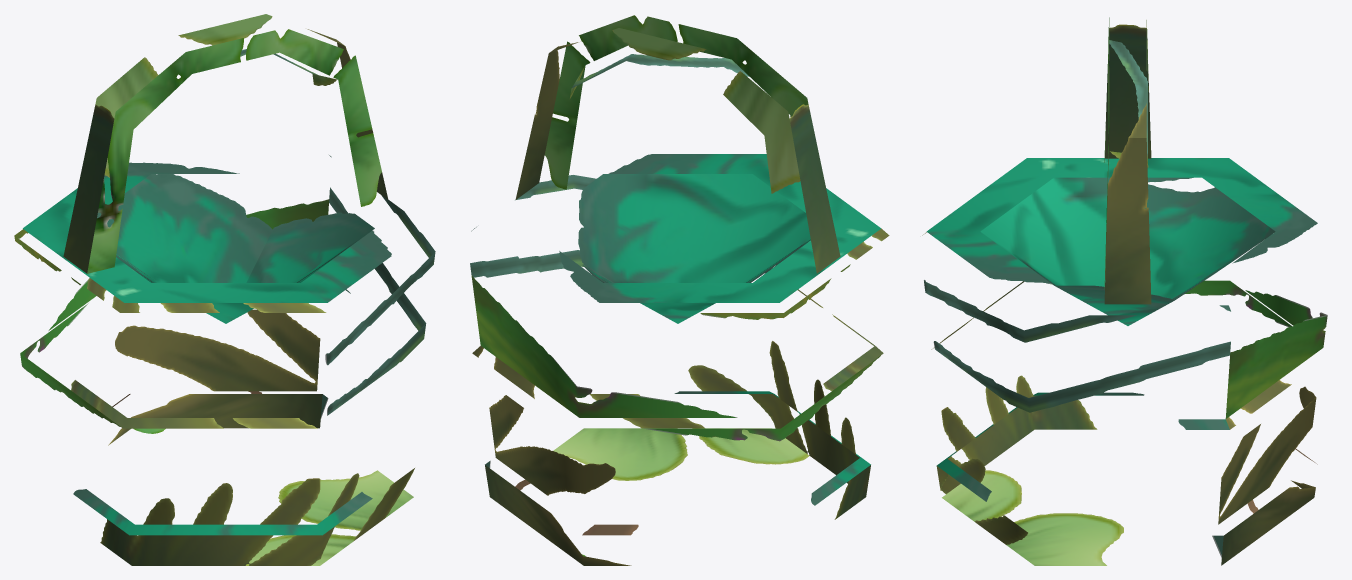
The model's file is wooden_bucket.fbx.
3 views of the same model, side by side, from view 1: azimuth 30°, elevation 25°; view 2: azimuth 150°, elevation 25°; view 3: azimuth 270°, elevation 25° (orthographic).
Visible parts, largest first — view 1: wooden_bucket; view 2: wooden_bucket; view 3: wooden_bucket.
Part boxes in pixels (left/top/right/bottom): wooden_bucket: left=14, top=14, right=435, bottom=565; wooden_bucket: left=470, top=15, right=889, bottom=565; wooden_bucket: left=922, top=17, right=1327, bottom=565.
Size of the model in its own units: 55.62 by 77.71 by 64.23.
